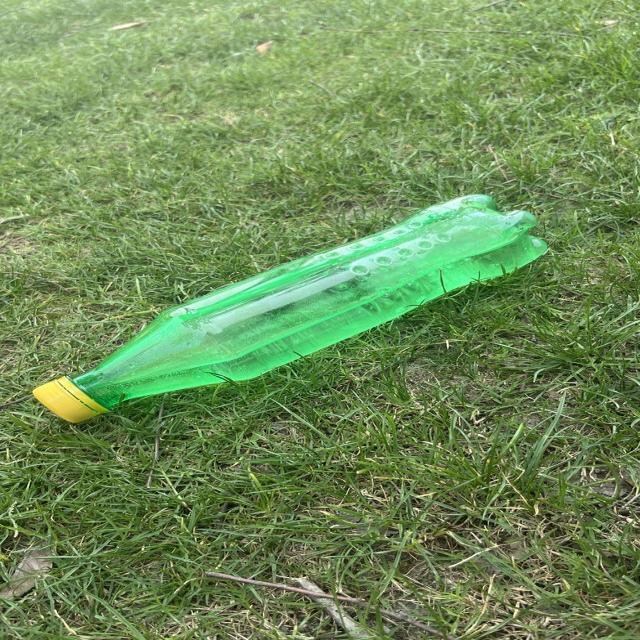medium: (33, 194, 546, 422)
